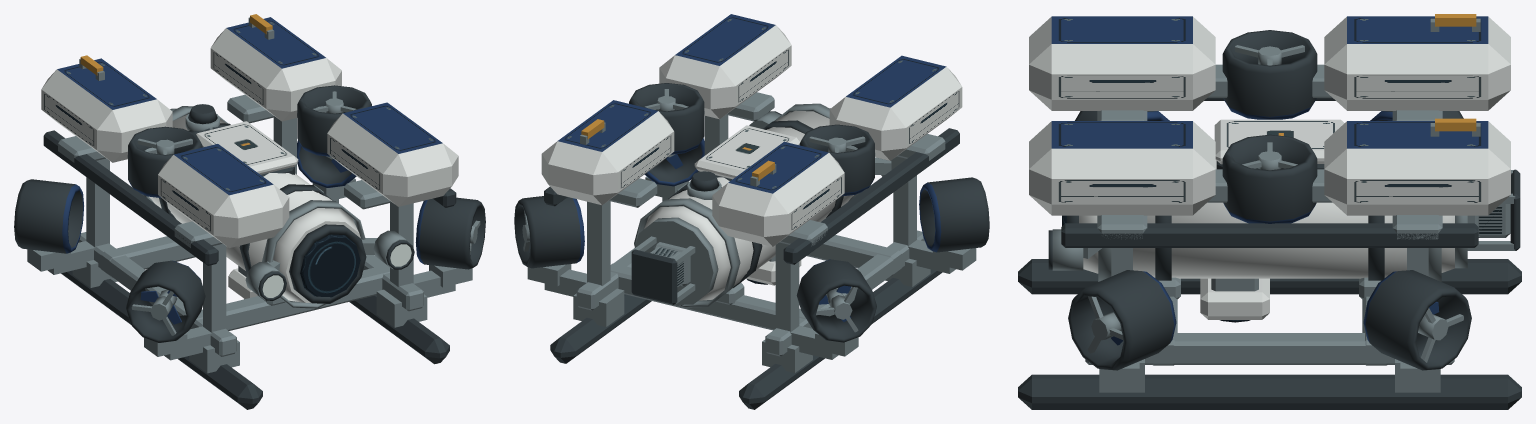
File: Aquatic_Rover.glb
3 renders of one model, left to right at view 1: azimuth 30°, elevation 25°; view 2: azimuth 150°, elevation 25°; view 3: azimuth 270°, elevation 25°, orthographic. The views are drawn at different scales.
Parts seen in each view (by area): view 1: AquaticRover_LOD0; view 2: AquaticRover_LOD0; view 3: AquaticRover_LOD0.
Part boxes in pixels (x1=…): AquaticRover_LOD0: x1=14, y1=14, x2=485, y2=409; AquaticRover_LOD0: x1=514, y1=14, x2=989, y2=409; AquaticRover_LOD0: x1=1018, y1=14, x2=1521, y2=409.
Bounding box in the file's own units: 2.42 × 1.43 × 2.32.
1 material, 1 textured.
